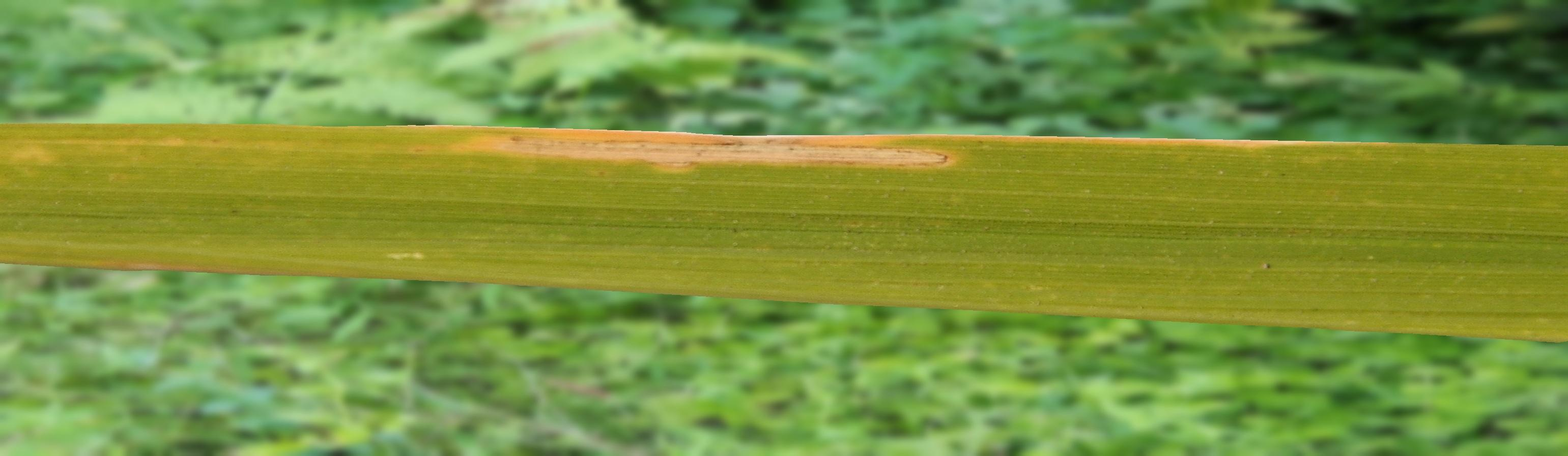BLB: (400, 125, 1396, 172)
LEAF: (0, 123, 1567, 342)
